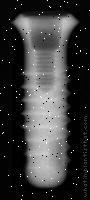Keystone Dental: (7, 11, 80, 192)
